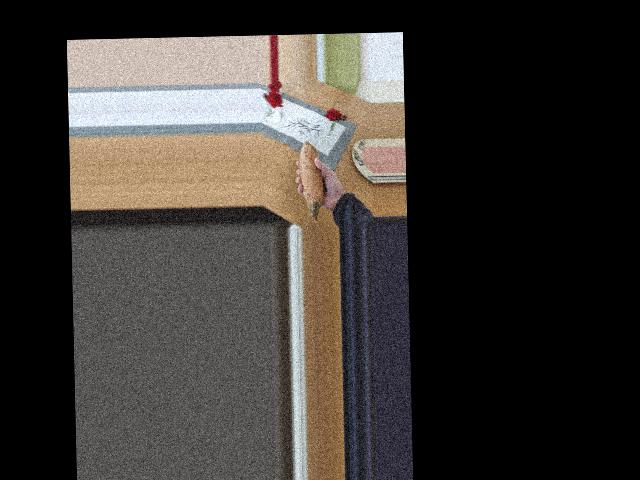sweet_potato: (295, 138, 331, 216)
